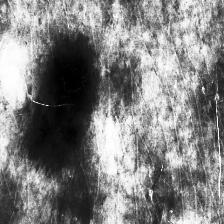Benign Marking or Mole: (27, 38, 99, 180)
